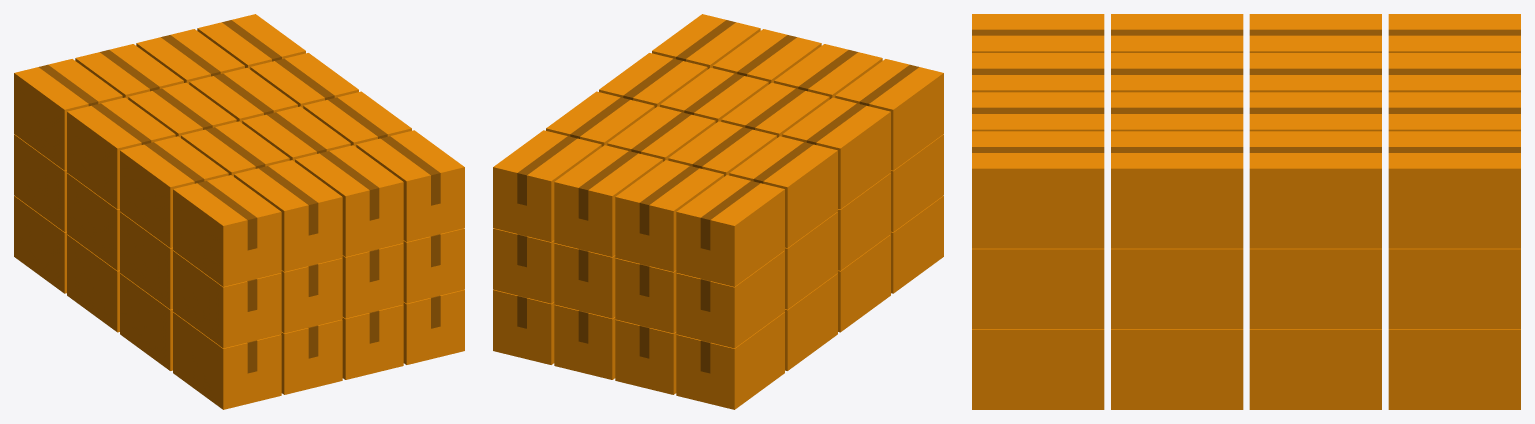
The model's file is Box_set.fbx.
3 renders of one model, left to right at view 1: azimuth 30°, elevation 25°; view 2: azimuth 150°, elevation 25°; view 3: azimuth 270°, elevation 25°, orthographic. The views are drawn at different scales.
Visible parts, largest first — view 1: Cube; view 2: Cube; view 3: Cube.
Part boxes in pixels (left/top/right/bottom): Cube: left=14, top=14, right=464, bottom=409; Cube: left=493, top=14, right=943, bottom=409; Cube: left=972, top=14, right=1520, bottom=409.
Size of the model in its own units: 415 by 302 by 623.
